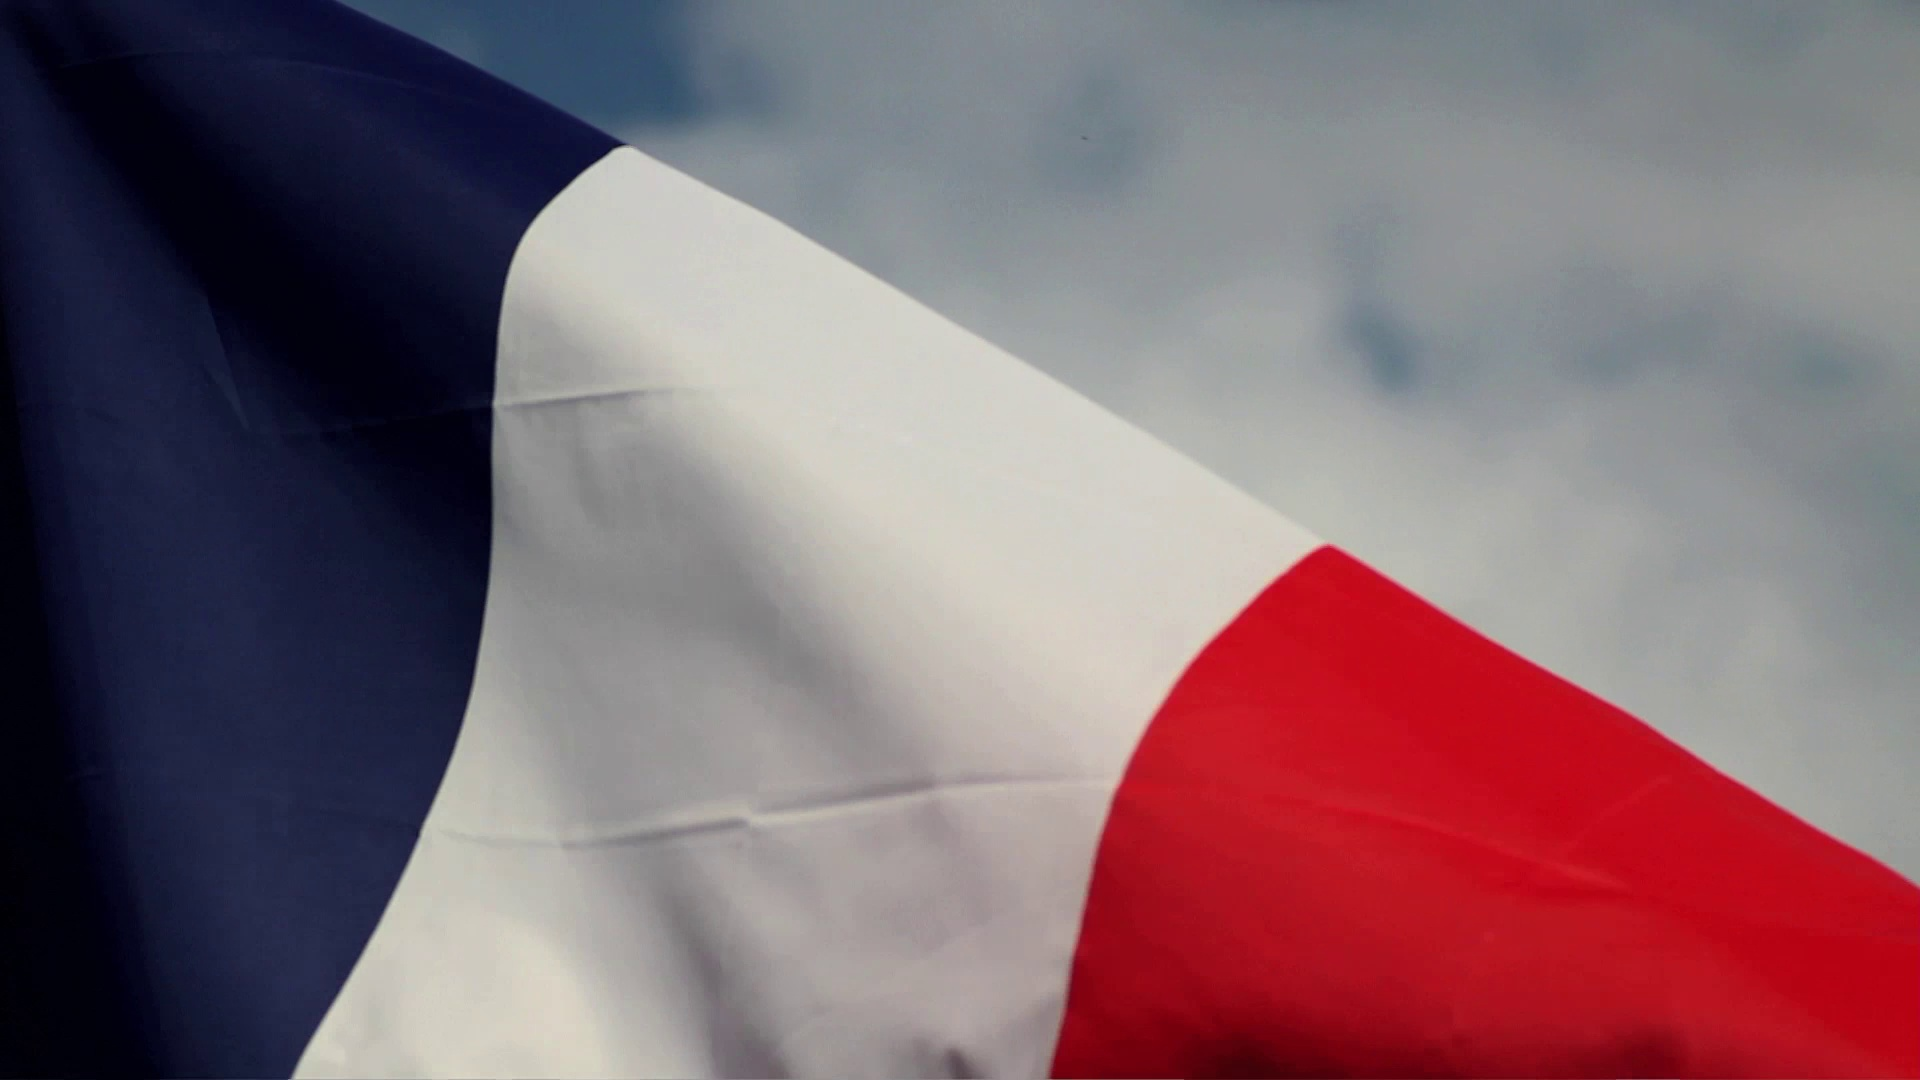French Flag: (1, 4, 1917, 1080)
